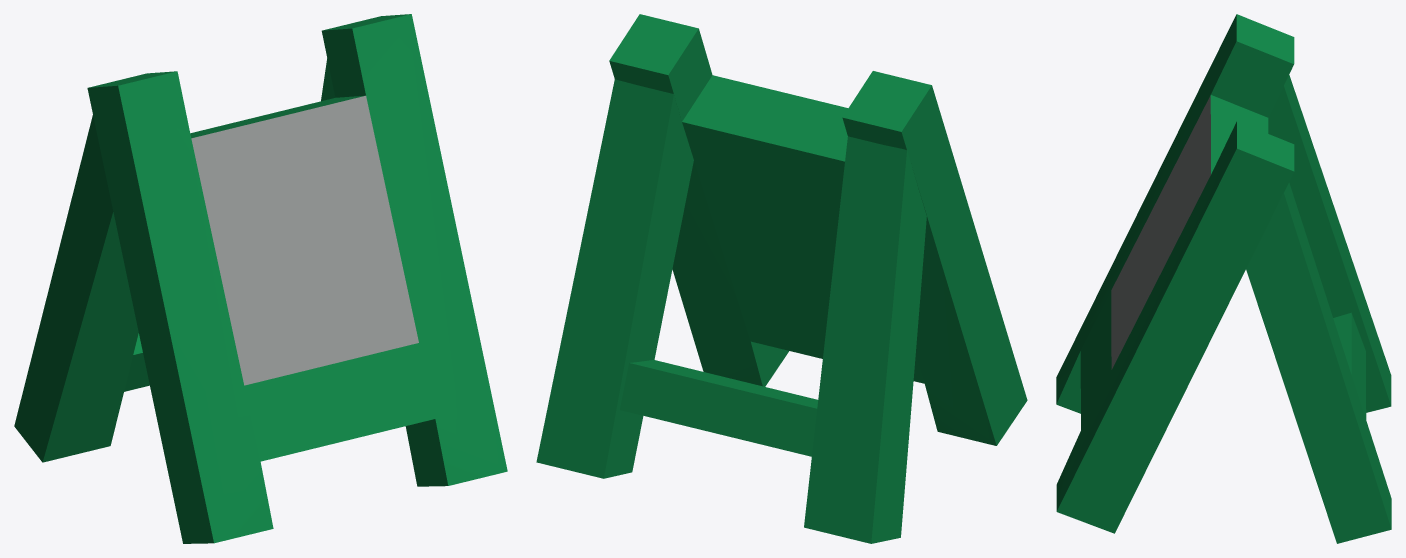
The model's file is platemenu_02.fbx.
3 views of the same model, side by side, from view 1: azimuth 30°, elevation 25°; view 2: azimuth 150°, elevation 25°; view 3: azimuth 270°, elevation 25° (orthographic). The views are drawn at different scales.
Visible parts, largest first — view 1: platemenu_02; view 2: platemenu_02; view 3: platemenu_02.
Part boxes in pixels (x1,y1,x2,y2): platemenu_02: [14, 14, 507, 543]; platemenu_02: [536, 14, 1027, 543]; platemenu_02: [1056, 14, 1391, 543].
Bounding box in the file's own units: 83.58 × 97.02 × 76.51.
